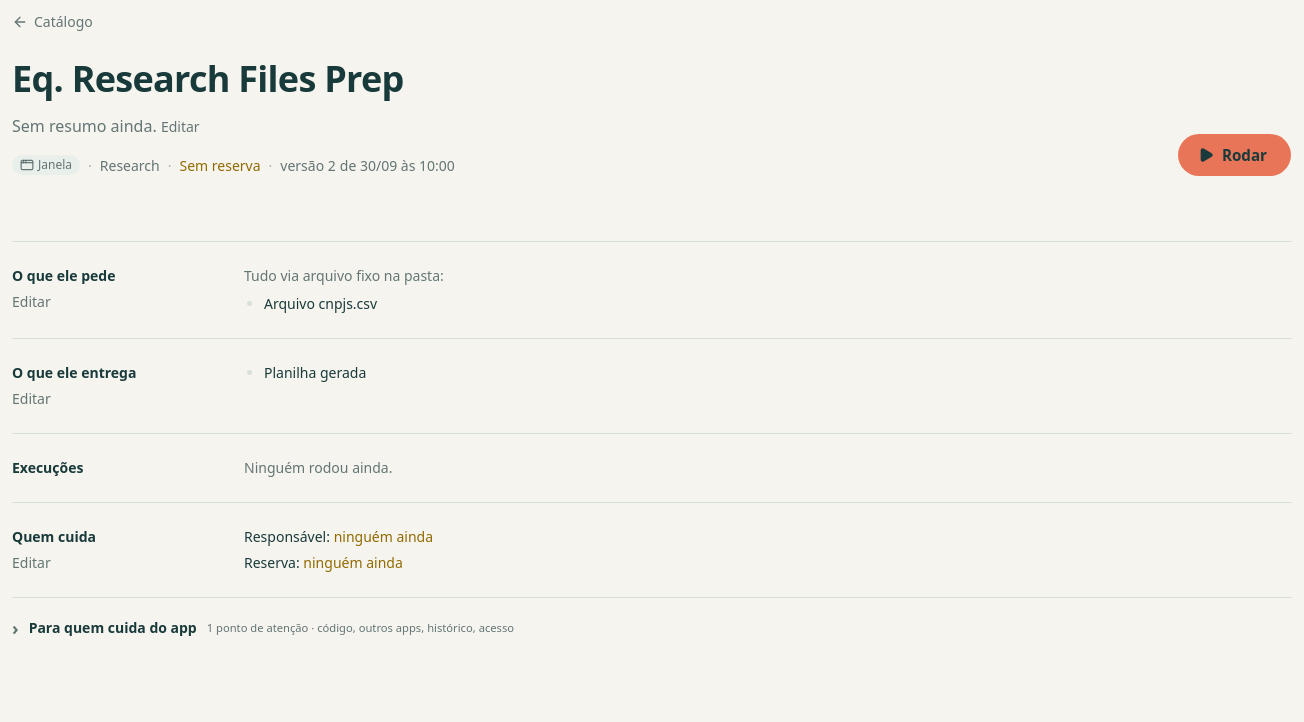
Test: an app lost while open: save says not found, Recarregar shows it and offers to try again
Click the button with aria-label "Editar O que ele entrega" at (31, 399), box x1=12 y1=389 x2=51 y2=409
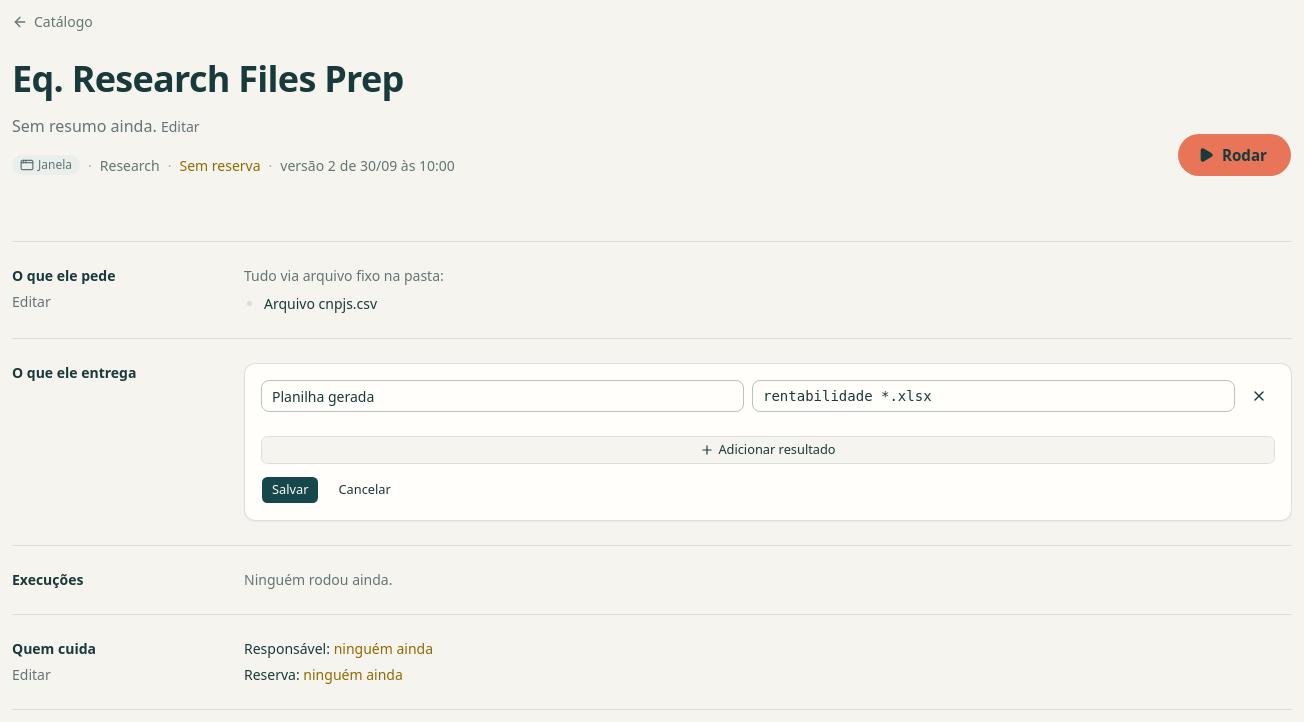
Click the button "Salvar" at (290, 490), box x1=261 y1=476 x2=320 y2=504
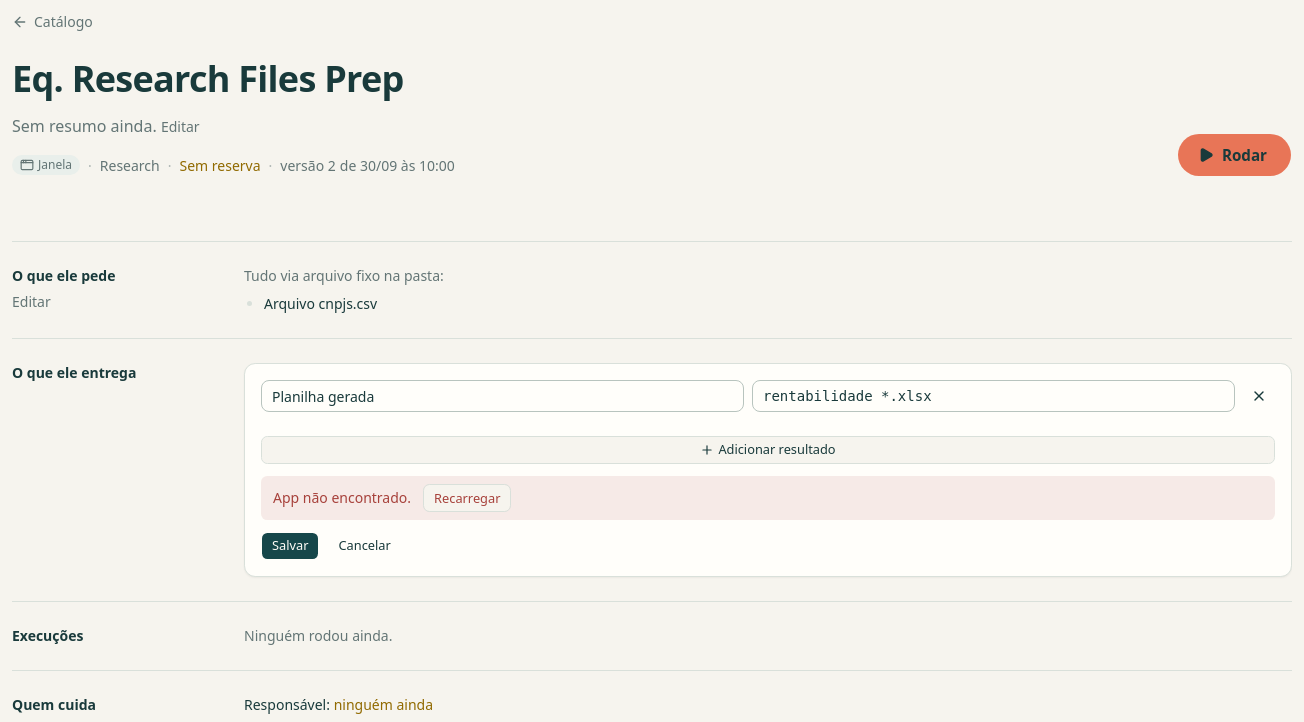
Check: the message shows "App não encontrado.", box x1=273 y1=488 x2=411 y2=507
Click the button "Recarregar" at (467, 498), box x1=423 y1=484 x2=512 y2=512
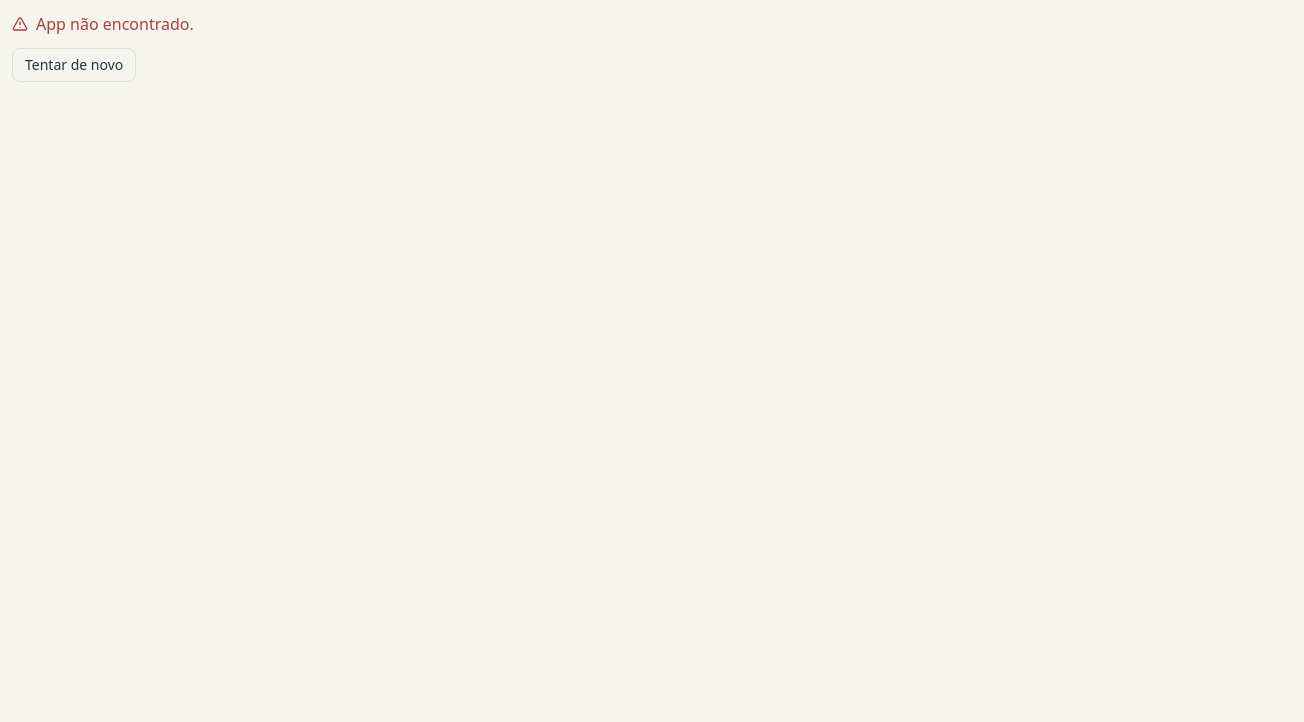
Check: the text "App não encontrado." is shown, box x1=12 y1=12 x2=194 y2=36
Check: the button "Tentar de novo" is shown, box x1=12 y1=48 x2=136 y2=82
Check: the heading "Eq. Research Files Prep" is gone
